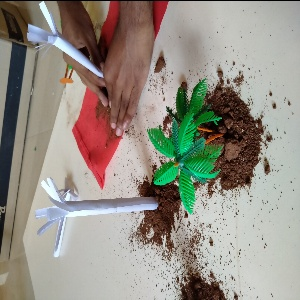plant: (143, 82, 222, 200)
weed: (24, 174, 164, 253), (19, 5, 128, 88)
